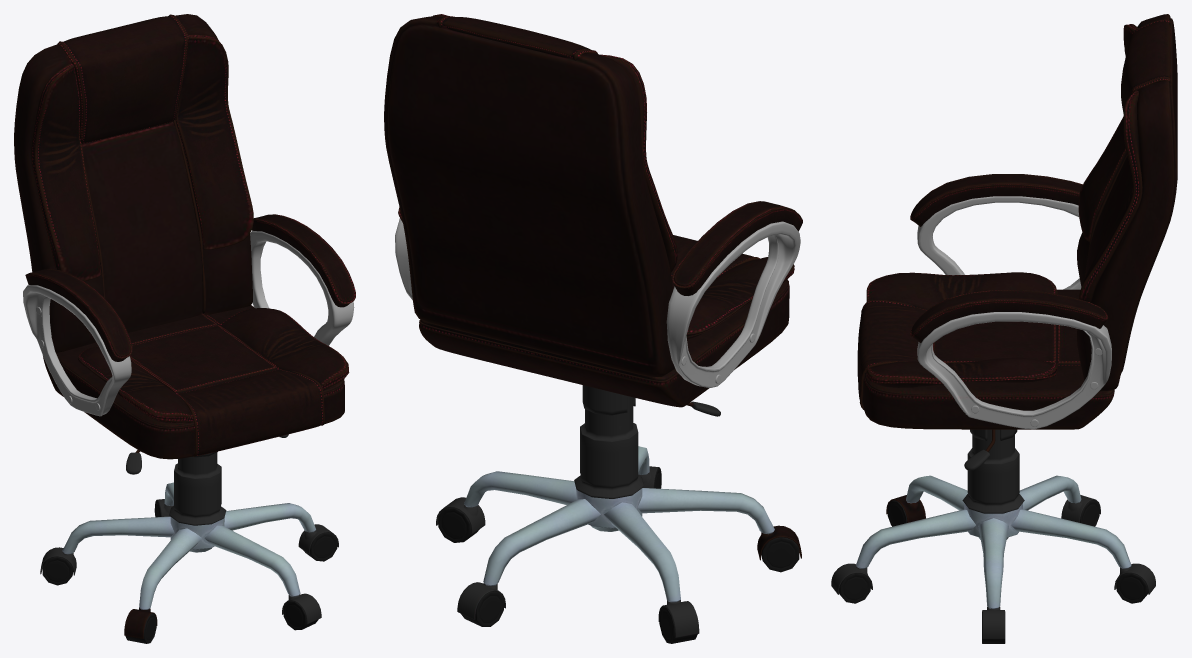
File: Office Chair.fbx
3 views of the same model, side by side, from view 1: azimuth 30°, elevation 25°; view 2: azimuth 150°, elevation 25°; view 3: azimuth 270°, elevation 25° (orthographic). The views are drawn at different scales.
Parts seen in each view (by area): view 1: Office Chair; view 2: Office Chair; view 3: Office Chair.
Part boxes in pixels (x1,y1,x2,y2): Office Chair: (14,14,355,643); Office Chair: (384,14,802,643); Office Chair: (831,14,1177,643).
Size of the model in its own units: 67.91 by 125 by 73.7.
